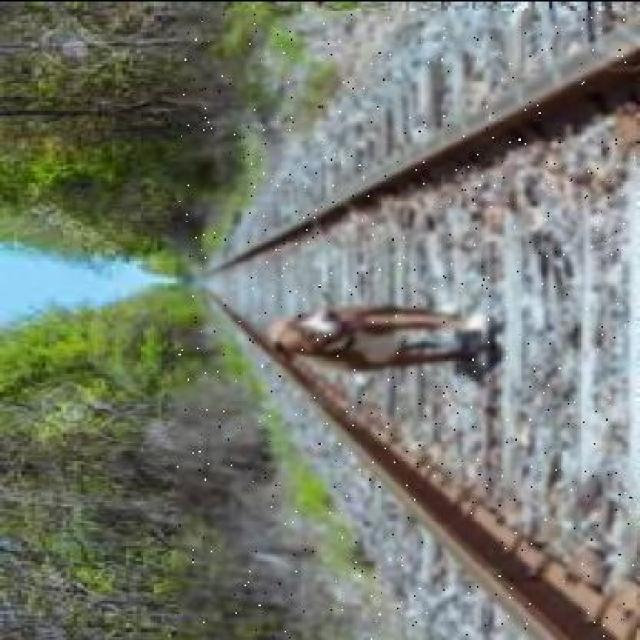danger: (264, 297, 498, 377)
rail: (177, 9, 635, 640)
